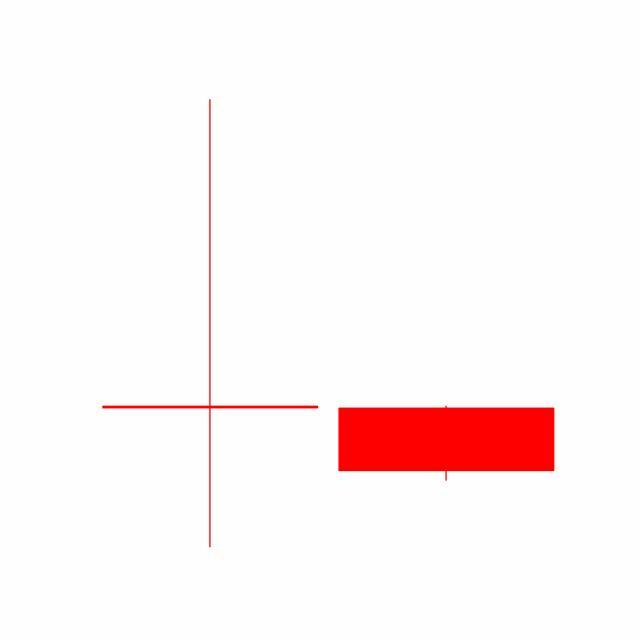Marubozu: (328, 405, 566, 482)
